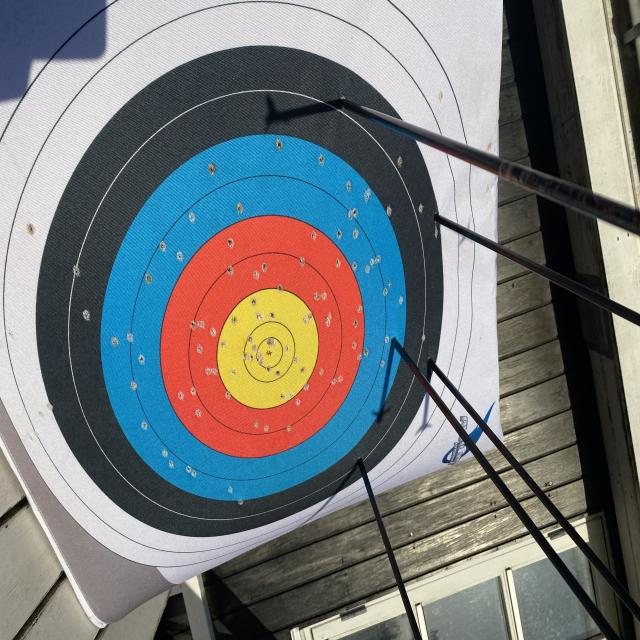Arrow_Black: (421, 201, 447, 237), (349, 446, 375, 481), (421, 341, 440, 381), (331, 89, 356, 118)
Arrow_Blue: (385, 322, 405, 358)
